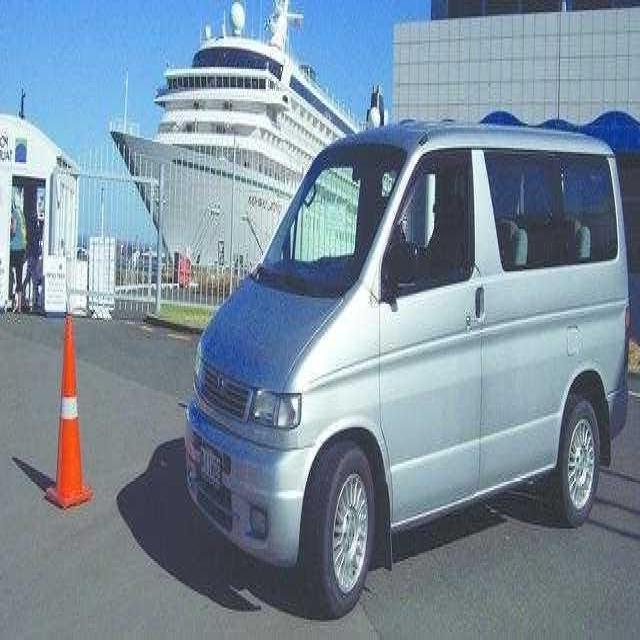Van: (185, 126, 628, 626)
